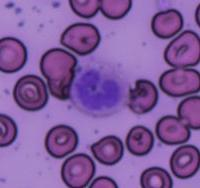N: (68, 56, 130, 117)
